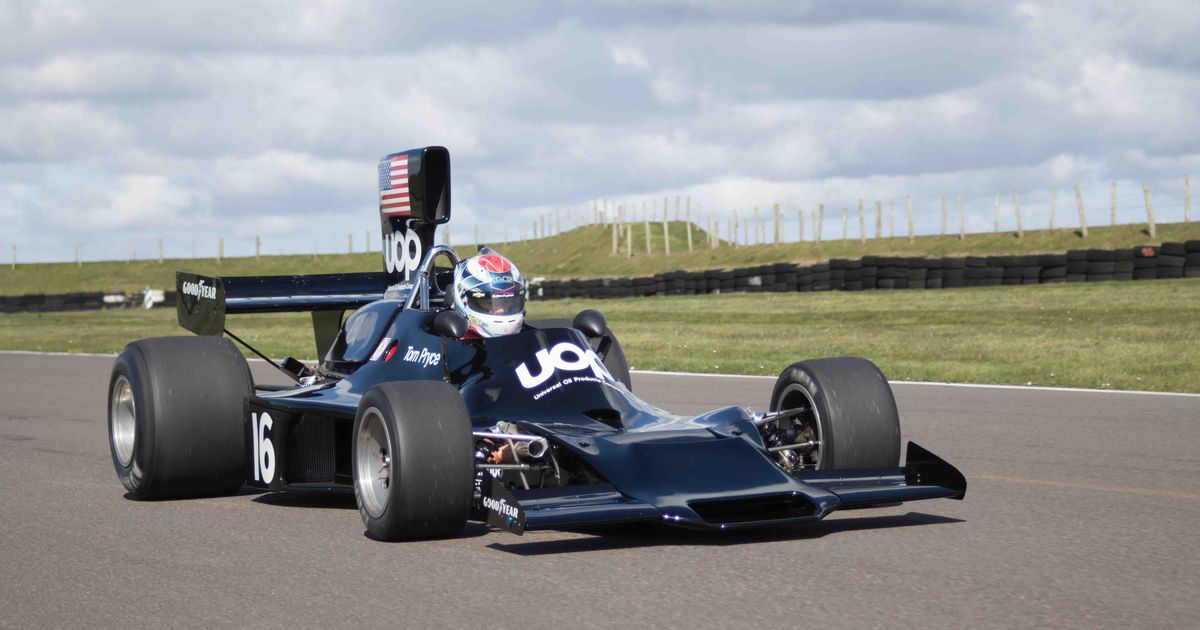f1_car: (92, 140, 984, 558)
